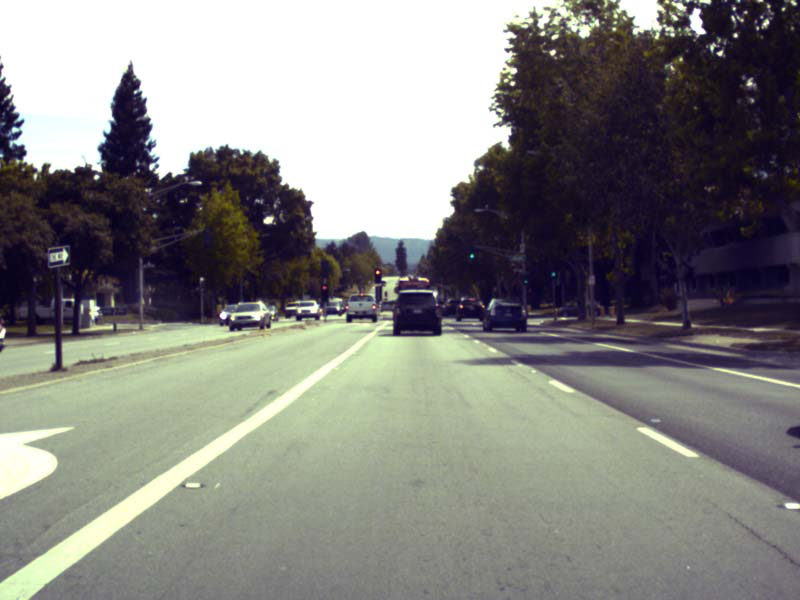Green: (469, 247, 474, 257), (551, 264, 555, 276), (523, 276, 527, 283)
Red: (321, 284, 327, 301), (375, 269, 380, 282)
